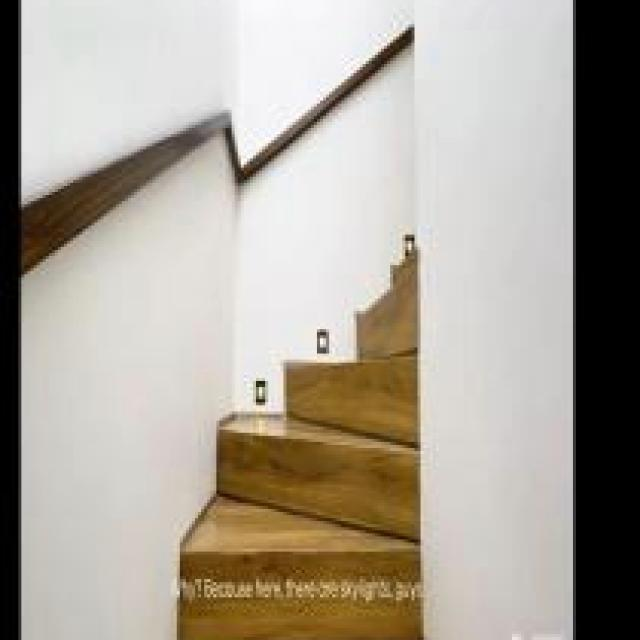upstair: (208, 343, 425, 538)
